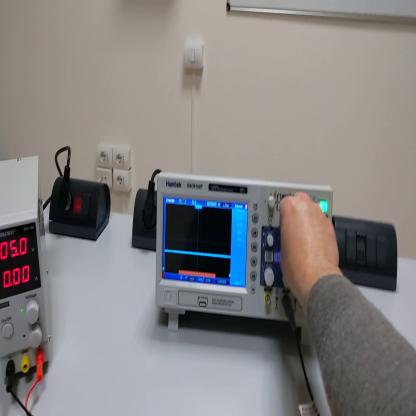hand: (279, 189, 342, 303)
oscilloscope: (151, 177, 331, 341)
power supply: (1, 155, 54, 379)
socket: (48, 179, 113, 244), (132, 187, 157, 253)
